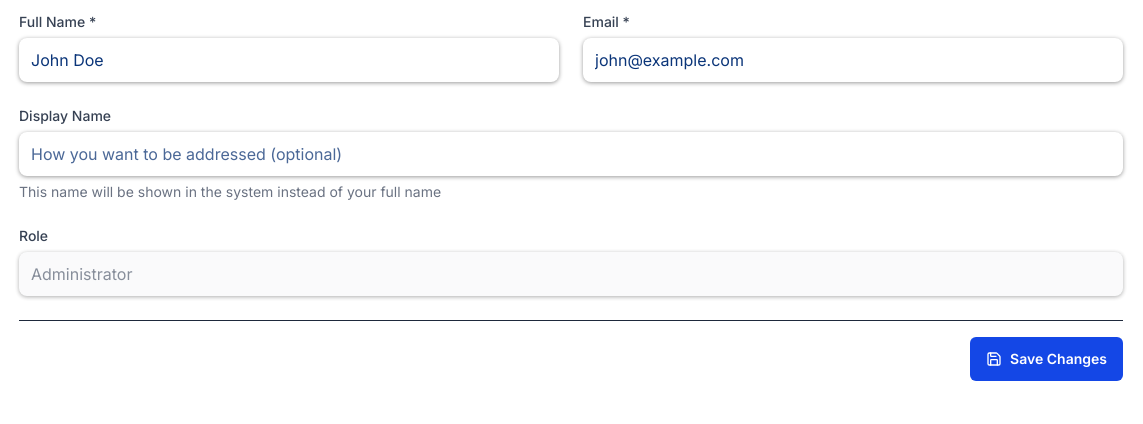
Scenario: PersonalDataSettings › validates email format
Replace the text in the field showing "john@example.com" below "Email *" with "john@notld": (853, 60) [583,38,1123,82]
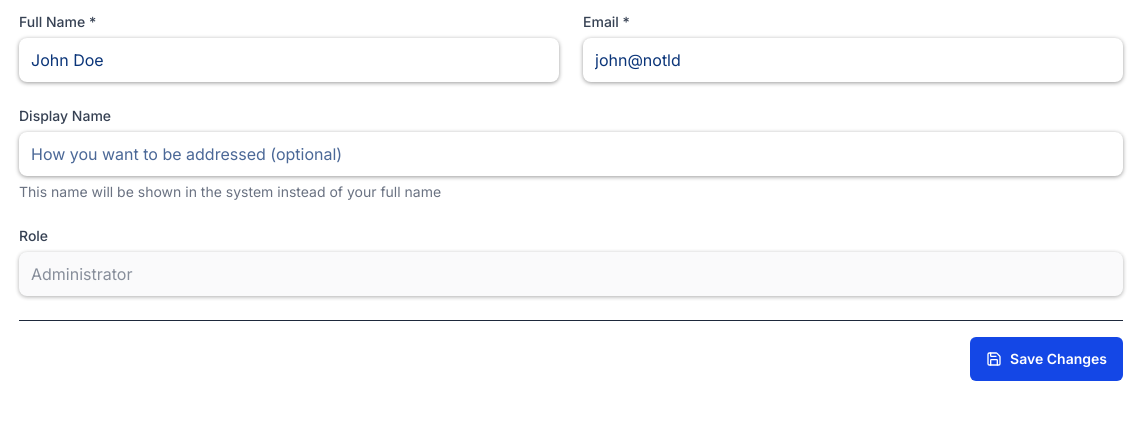
Click the button "Save Changes": (1047, 359) [970,337,1123,381]
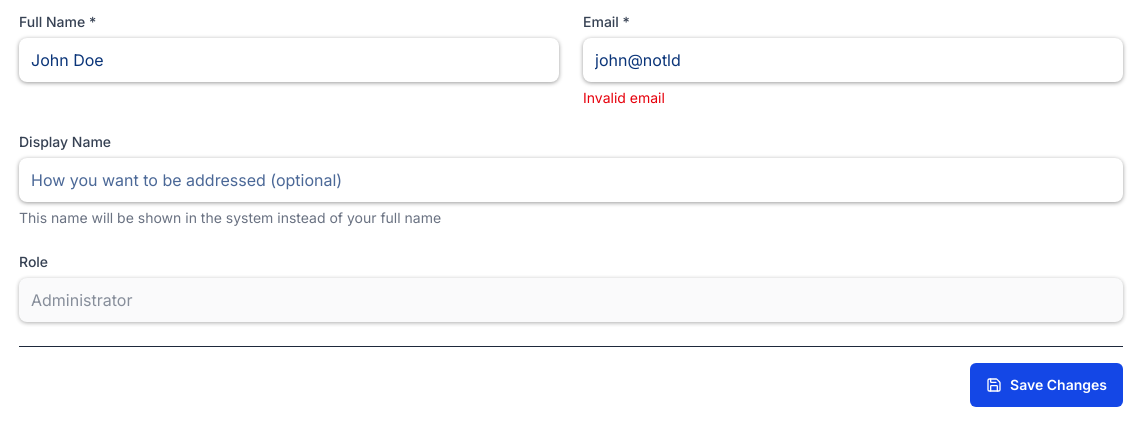
Expected: the text "Invalid email" is shown, [583,89,665,106]
